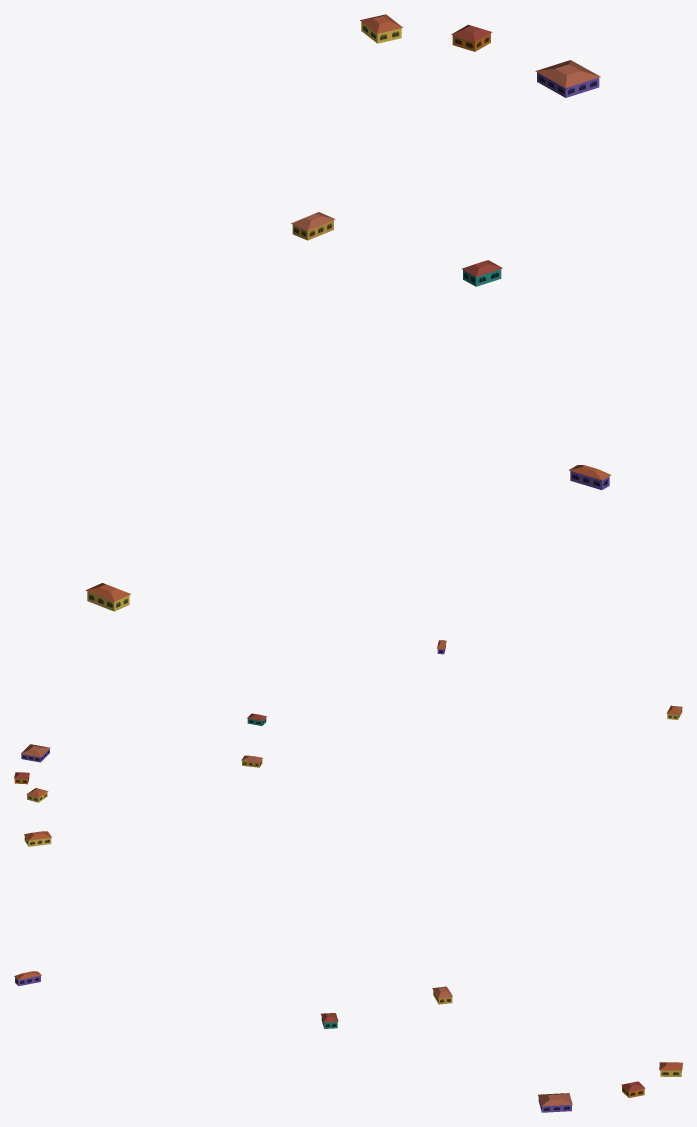
The model's file is msb_oranjestad_m14_3.glb.
3 views of the same model, one above another, from view 1: azimuth 30°, elevation 25°; view 2: azimuth 150°, elevation 25°; view 3: azimuth 270°, elevation 25° (orthographic). The views are drawn at different scales.
Parts seen in each view (by area): view 1: msb_oranjestad_m14_3_lod0; view 2: msb_oranjestad_m14_3_lod0; view 3: msb_oranjestad_m14_3_lod0.
Part boxes in pixels (bbox=[...]): msb_oranjestad_m14_3_lod0: bbox=[85, 14, 611, 611]; msb_oranjestad_m14_3_lod0: bbox=[14, 640, 682, 802]; msb_oranjestad_m14_3_lod0: bbox=[14, 831, 682, 1112].
Size of what is drawn, in the model's own units: 313 by 9.13 by 317.
Materials: 2 (1 with a texture image).
